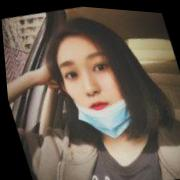WRONG: (52, 35, 136, 131)
